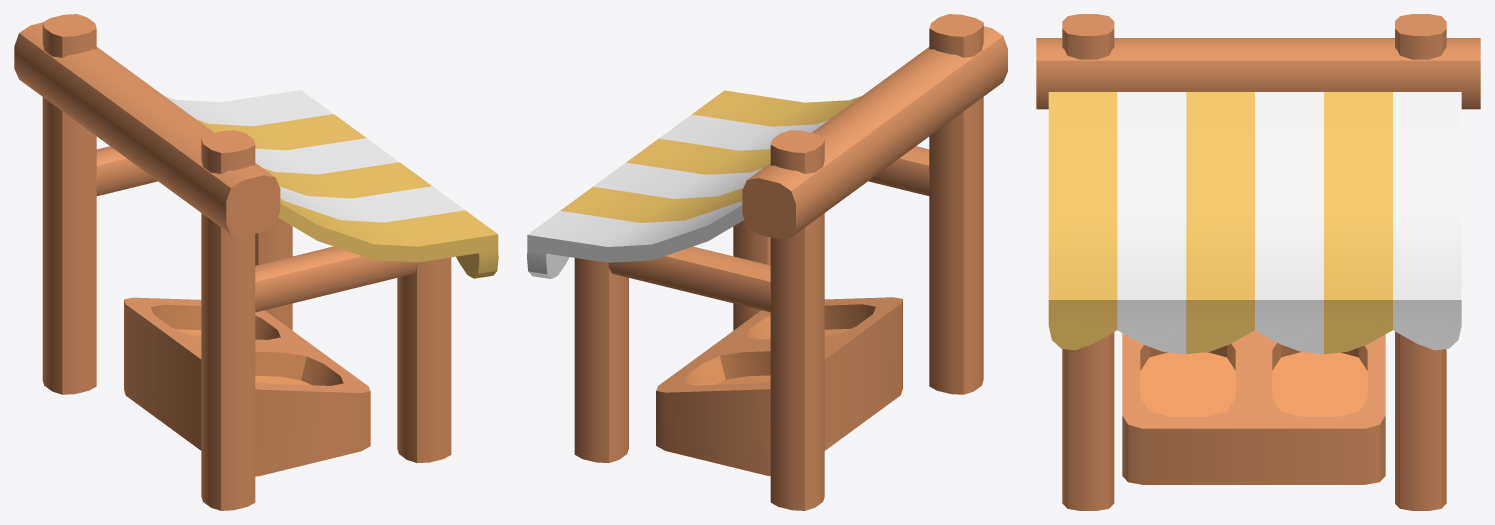
Rendered from Market_C.fbx.
3 views of the same model, side by side, from view 1: azimuth 30°, elevation 25°; view 2: azimuth 150°, elevation 25°; view 3: azimuth 270°, elevation 25° (orthographic). The views are drawn at different scales.
Parts seen in each view (by area): view 1: Market_C; view 2: Market_C; view 3: Market_C.
Boxes of the visible parts, x1,y1,x2,y2 form: Market_C: (14,14,498,510); Market_C: (527,14,1007,510); Market_C: (1036,14,1480,510).
Bounding box in the file's own units: 211 × 259 × 278.
